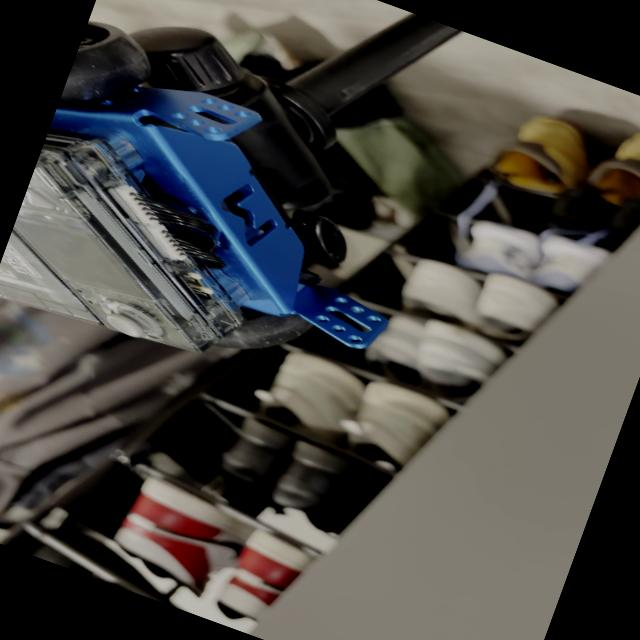mbot-detection: (0, 15, 466, 439)
